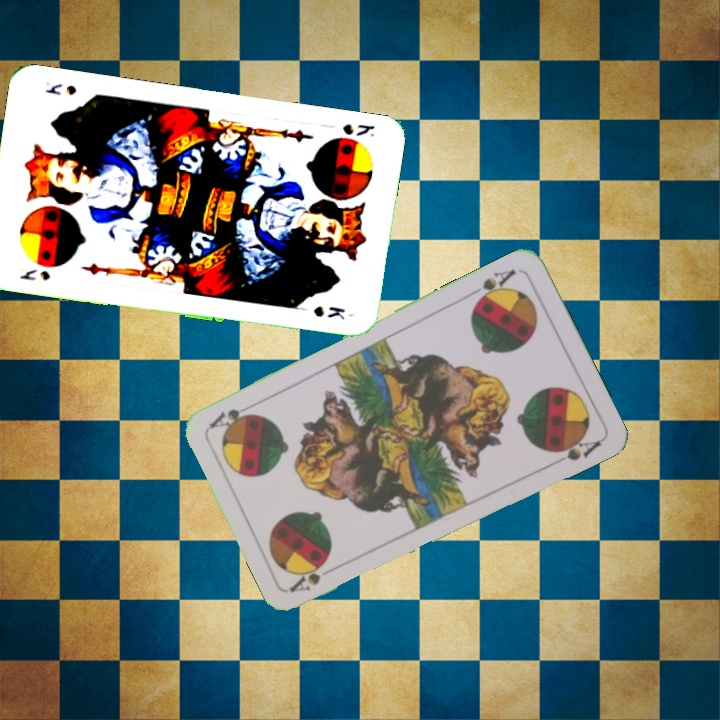SA: (465, 264, 519, 308), (286, 558, 342, 595)
SK: (338, 120, 378, 140), (16, 265, 53, 284)
